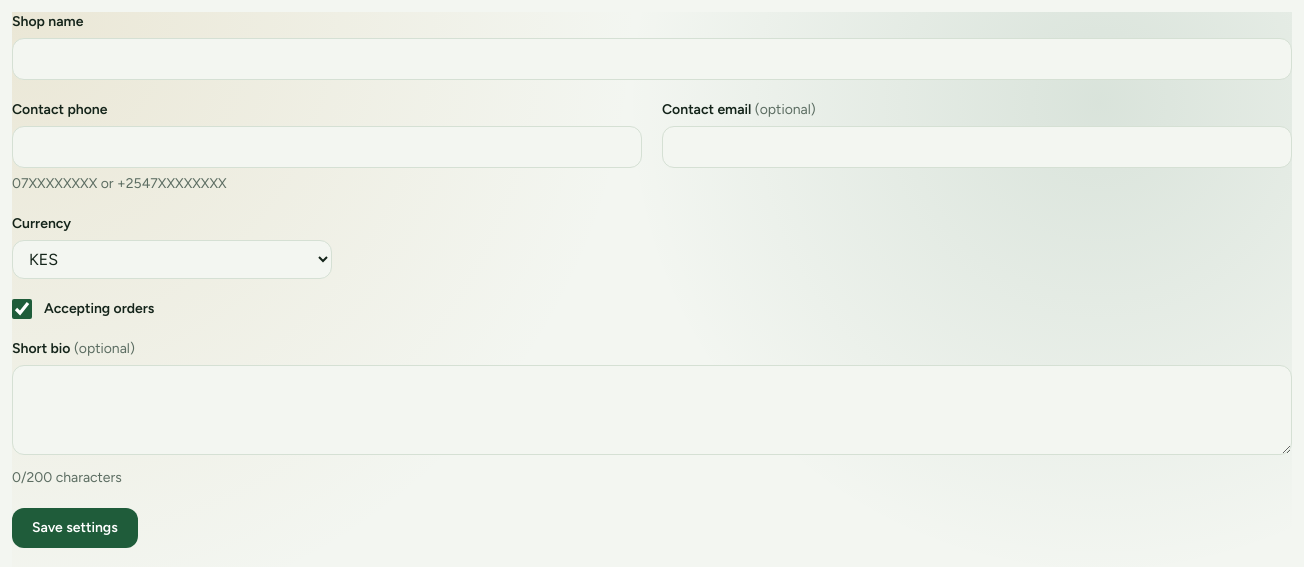
SettingsForm › saves valid settings and announces success
The image size is (1304, 567).
Type "  Amina Yard " into the field labelled "Shop name" at x=652, y=59, box [12,38,1292,80]
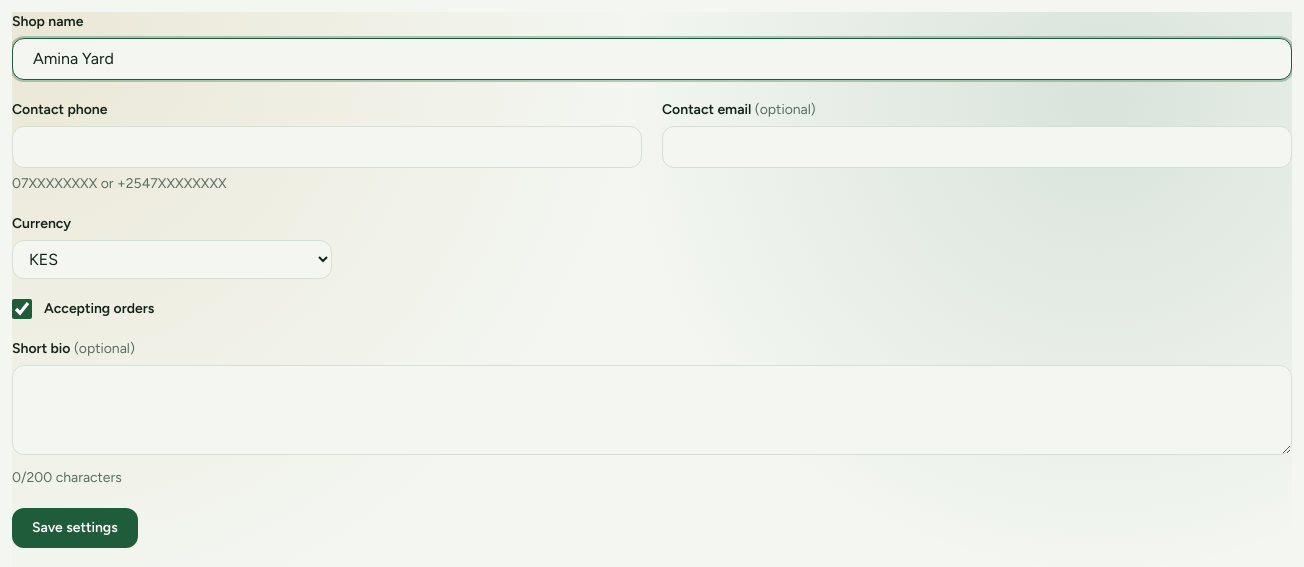
Type "+254712345678" into the field labelled "Contact phone" at x=327, y=147, box [12,126,642,168]
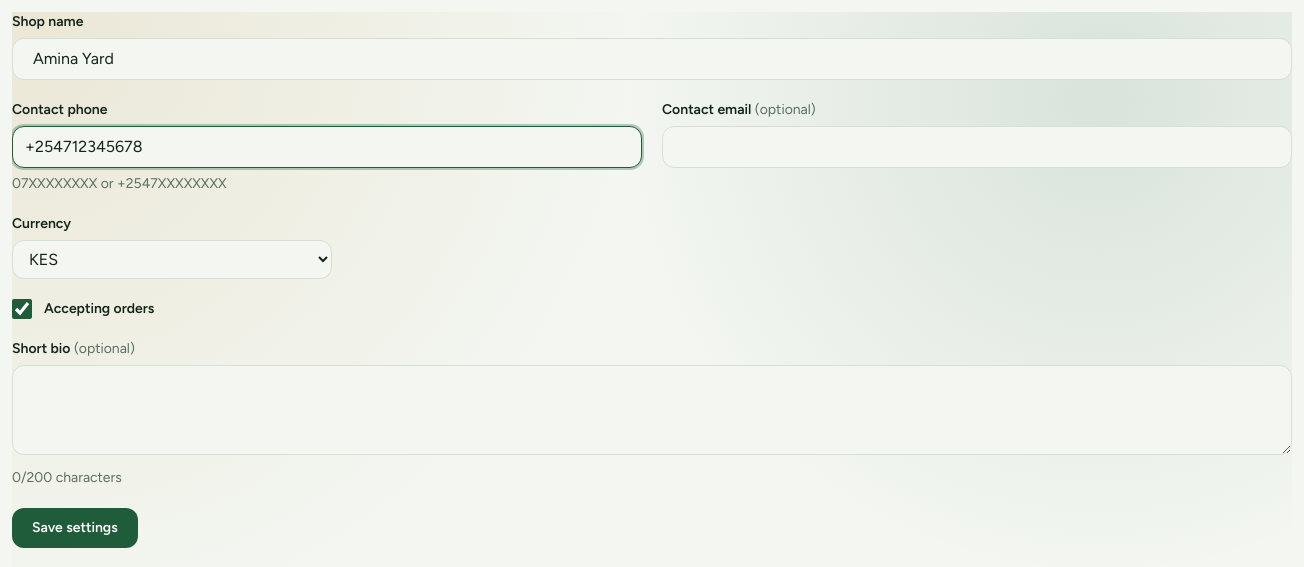
Select "USD" in the dropdown labelled "Currency" at x=172, y=260, box [12,240,332,279]
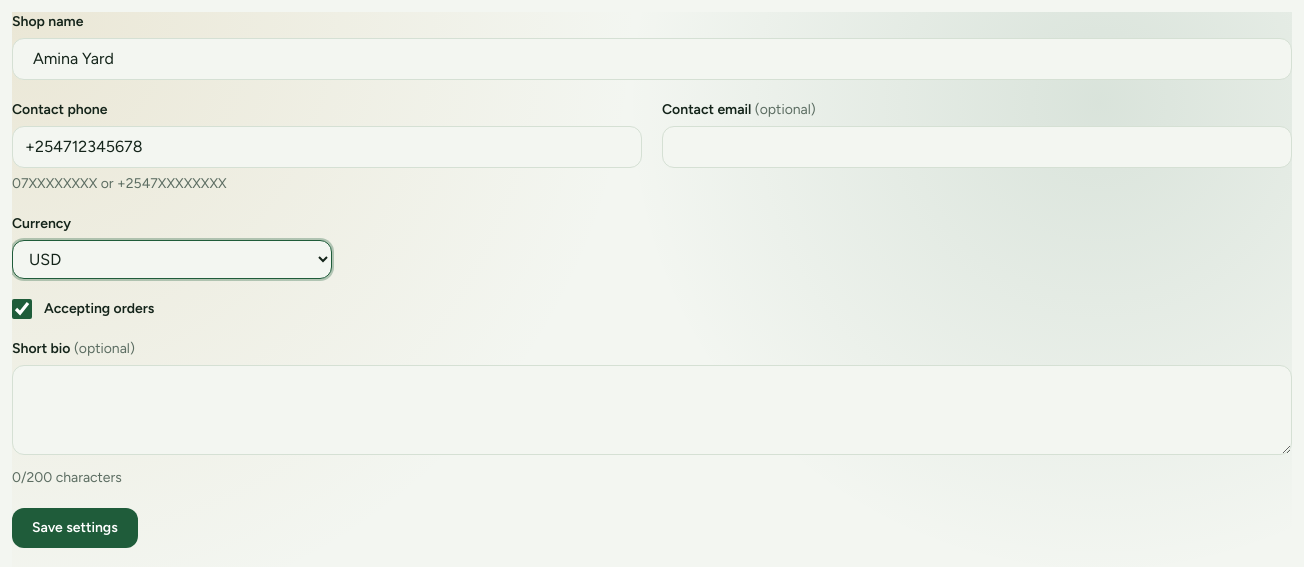
Click the checkbox labelled "Accepting orders" at x=22, y=309, box [12,299,32,319]
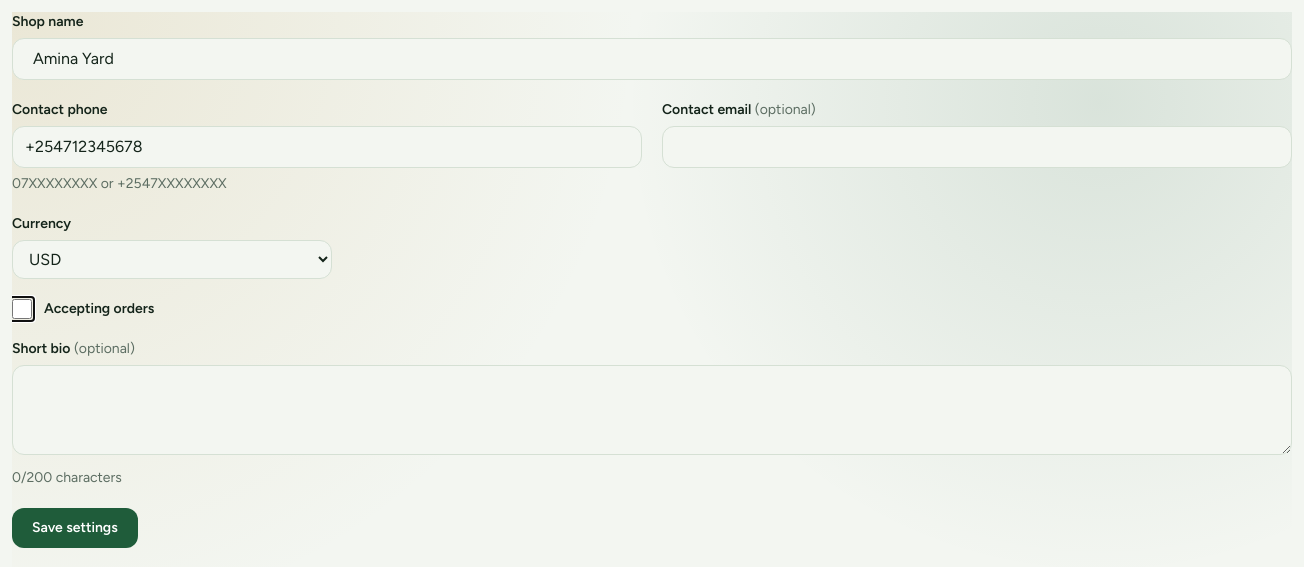
Click the button "Save settings" at x=75, y=528, box [12,508,138,548]
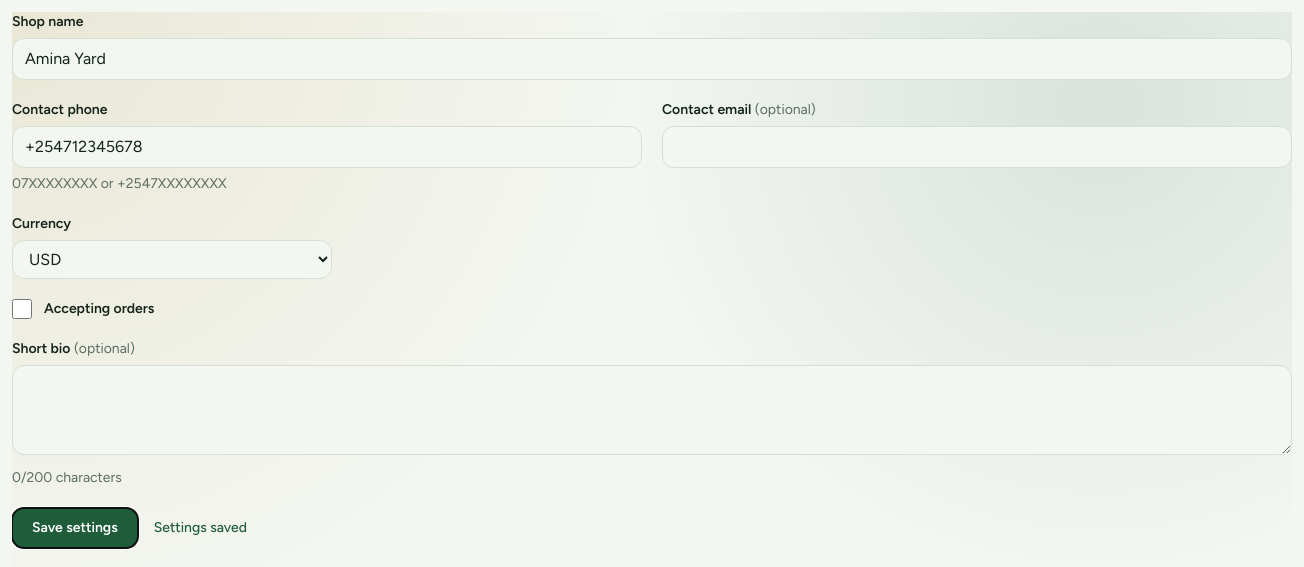
Result: the message reads "Settings saved" at [154,519,247,536]
